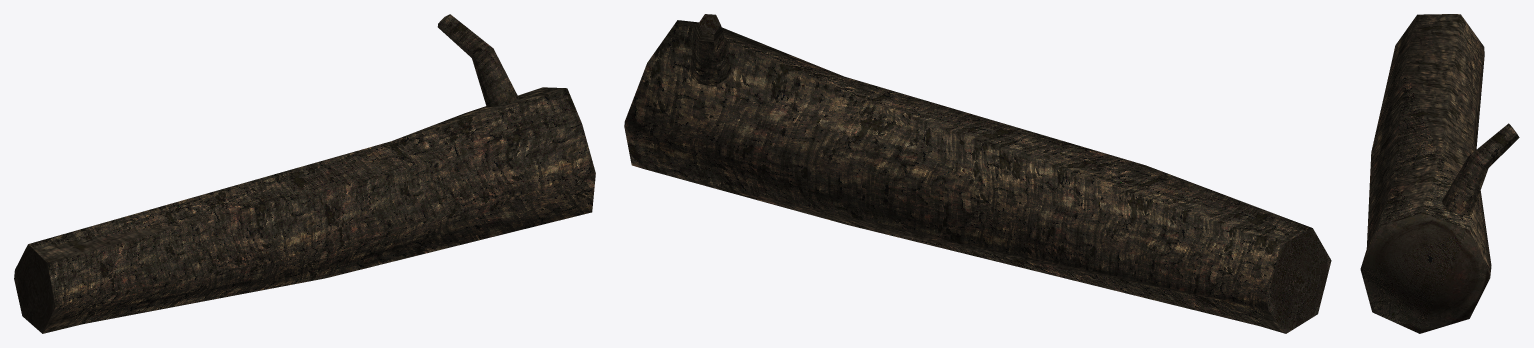
Rendered from tree_log_2.glb.
3 views of the same model, side by side, from view 1: azimuth 30°, elevation 25°; view 2: azimuth 150°, elevation 25°; view 3: azimuth 270°, elevation 25° (orthographic). The views are drawn at different scales.
Visible parts, largest first — view 1: tree_log_2; view 2: tree_log_2; view 3: tree_log_2.
Boxes of the visible parts, left/top/right/bottom form: tree_log_2: left=14, top=14, right=595, bottom=333; tree_log_2: left=624, top=14, right=1331, bottom=333; tree_log_2: left=1360, top=14, right=1519, bottom=333.
Bounding box in the file's own units: 1.55 × 0.5045 × 0.4149.
Materials: 2 (2 with a texture image).
